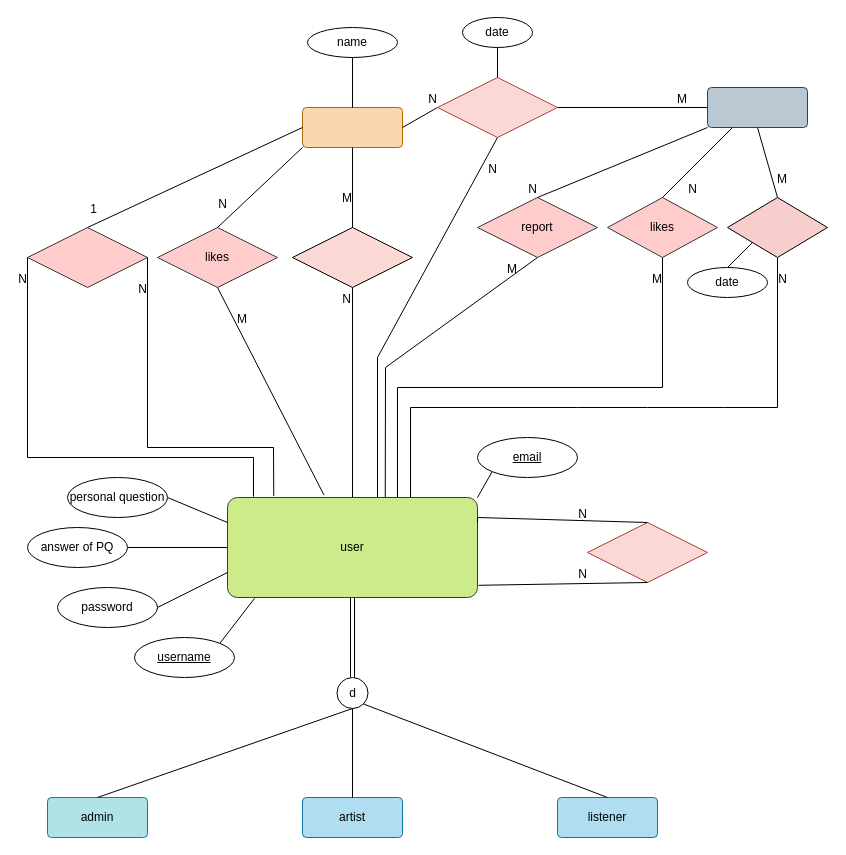
The diagram is 846 pixels wide and 855 high, and some of its shapes have lost their labels. The centre of each missing label's shape, as x and y in pixels:
"adds" goes at (497,107).
"creates" goes at (352,257).
"follows" goes at (647,552).
"playlist" goes at (352,127).
"plays" goes at (777,227).
"shares" goes at (87,257).
"song" goes at (757,107).
